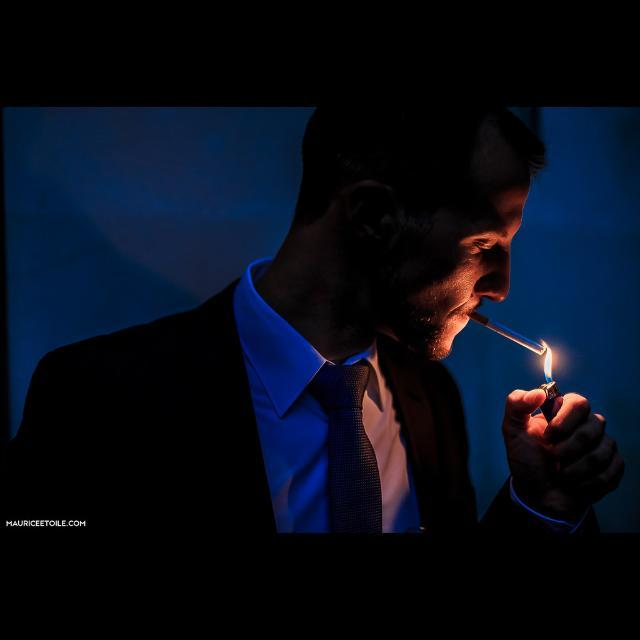rokok: (467, 304, 547, 362)
